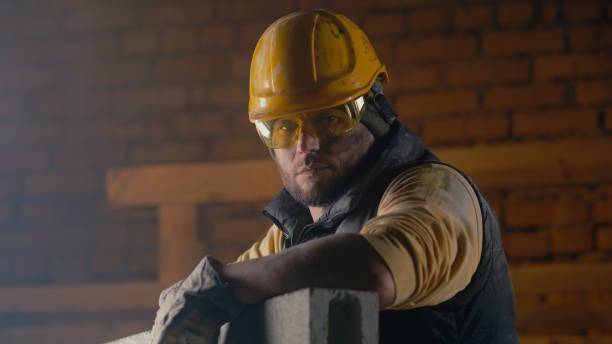goggle: (241, 91, 380, 162)
helmet: (240, 10, 393, 119), (249, 117, 250, 119)
vest: (242, 114, 527, 343)
